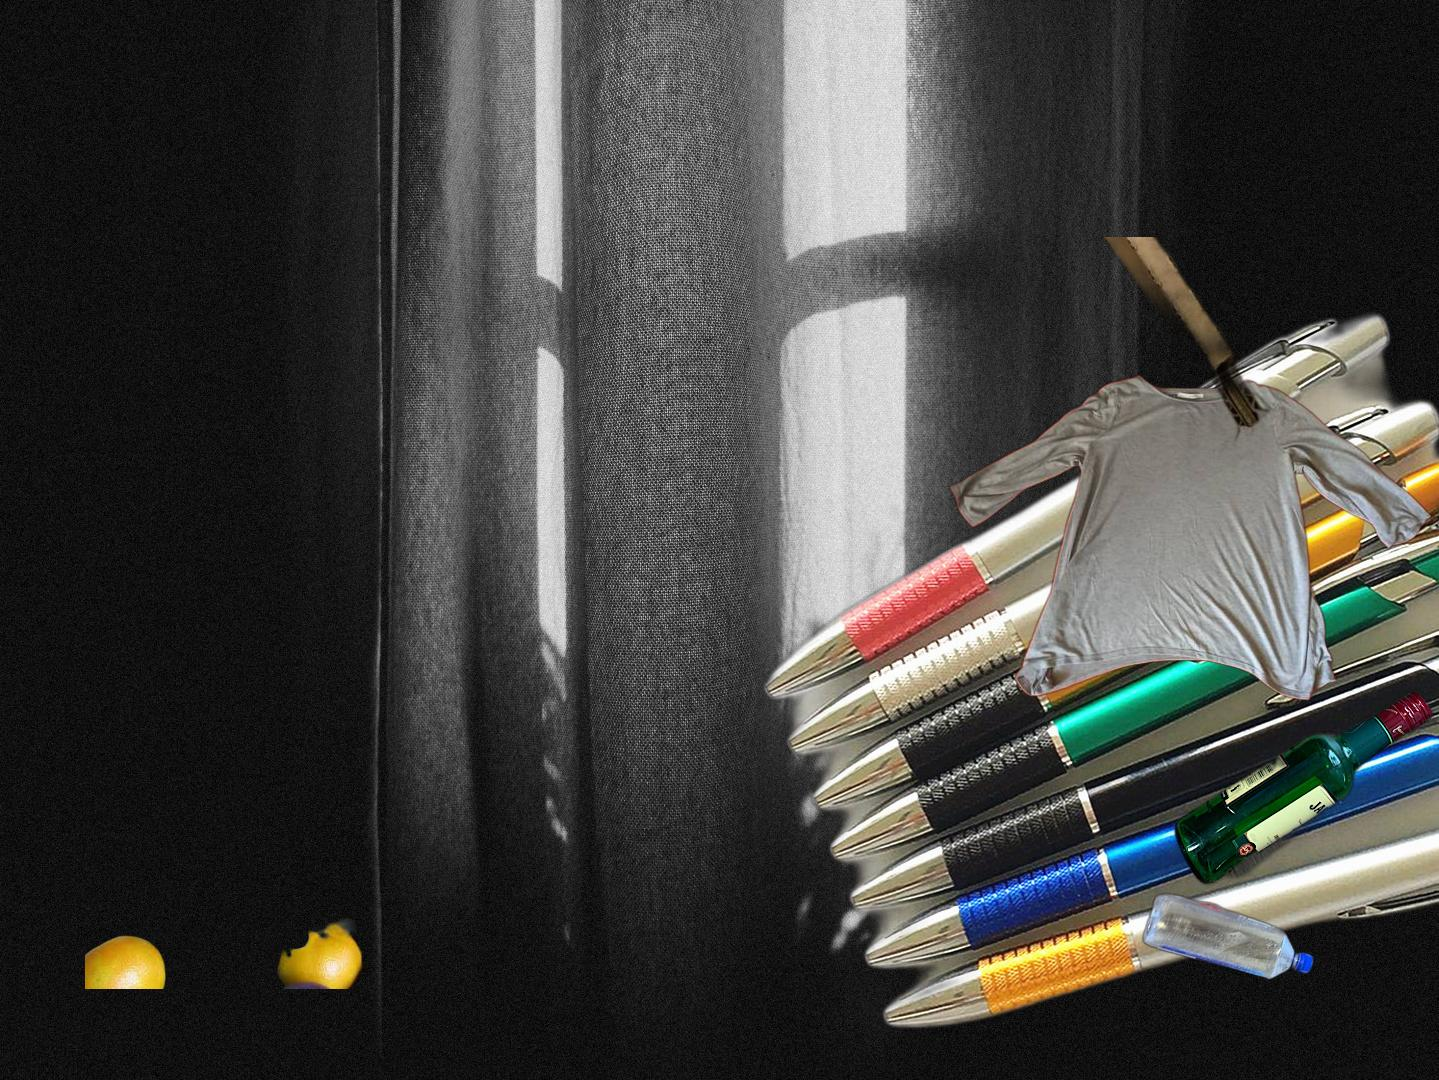biological: (85, 835, 410, 989)
clothes: (945, 372, 1439, 702)
glass: (1170, 685, 1438, 891)
penholder: (684, 159, 1439, 1038)
plastic-bottles: (1138, 891, 1319, 982)
trashbox-cardboard: (1099, 237, 1273, 482)
